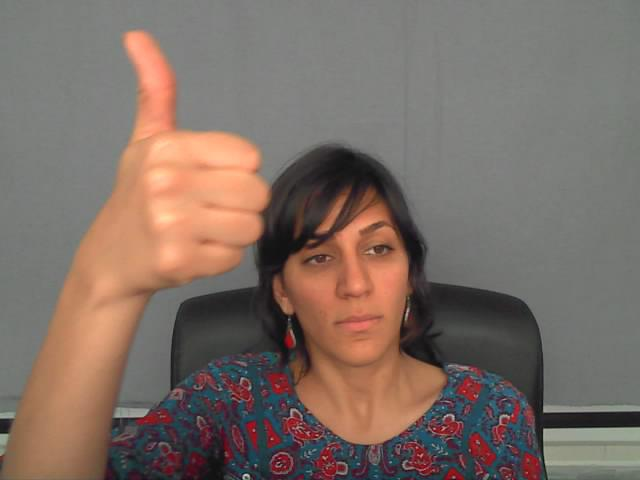thumbs-up: (91, 26, 270, 279)
